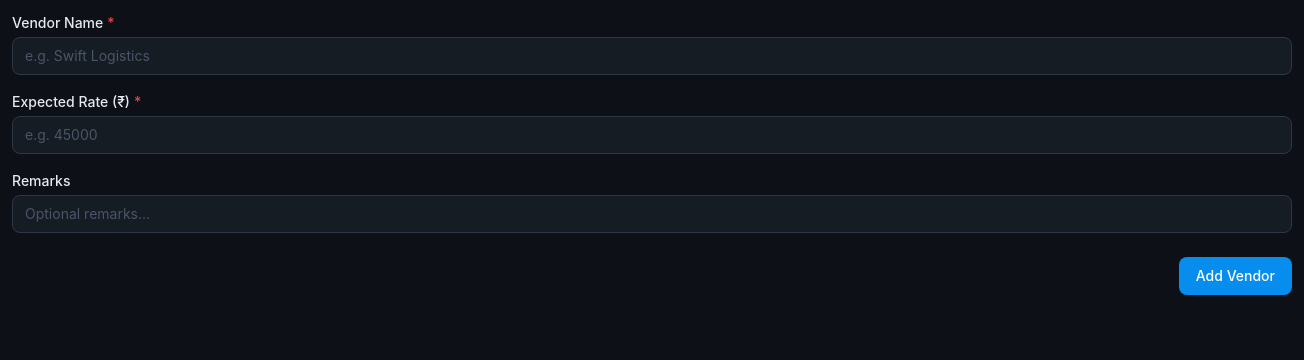
Test: AddVendorForm › clears vendor name error when user starts typing
Click the button "Add Vendor" at {"x": 1235, "y": 276}, box [1179,257,1292,295]
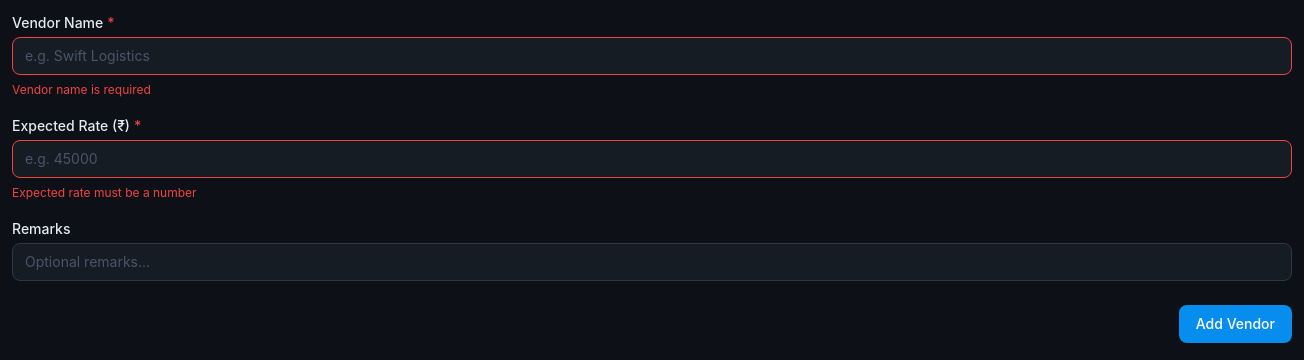
Check: the text "Vendor name is required" is shown, box [12,82,151,97]
Type "A" into the field labelled "Vendor Name*" at {"x": 652, "y": 56}, box [12,37,1292,75]
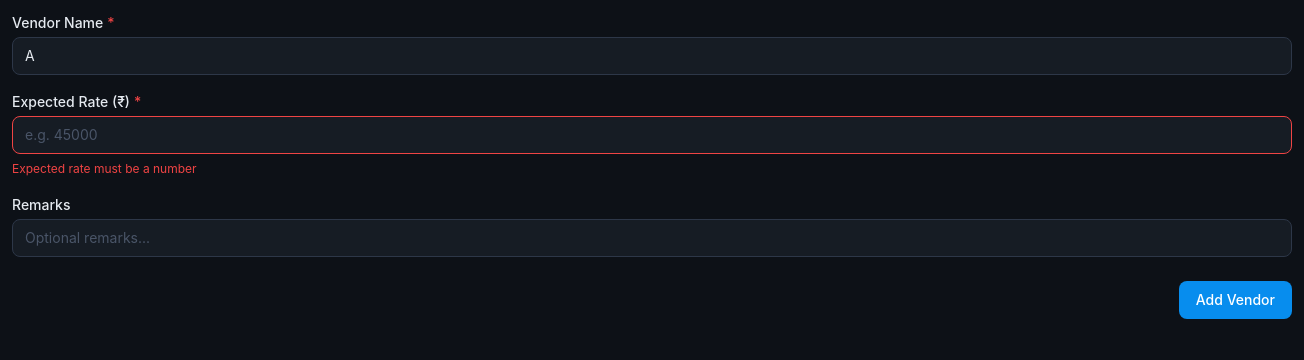
Check: the text "Vendor name is required" is gone
